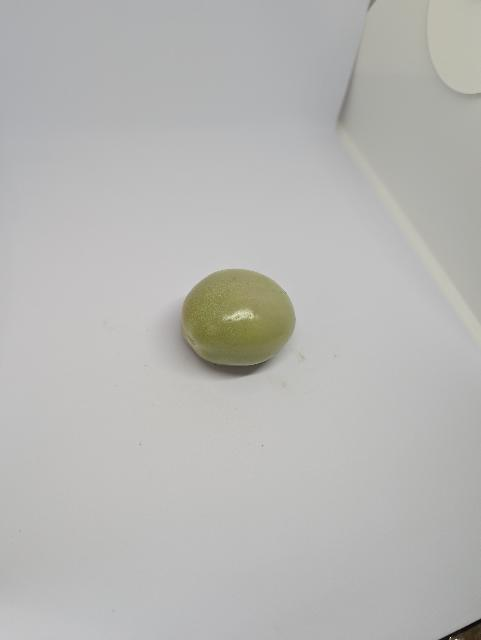green: (180, 269, 297, 367)
